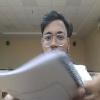notebook: (0, 48, 92, 99)
